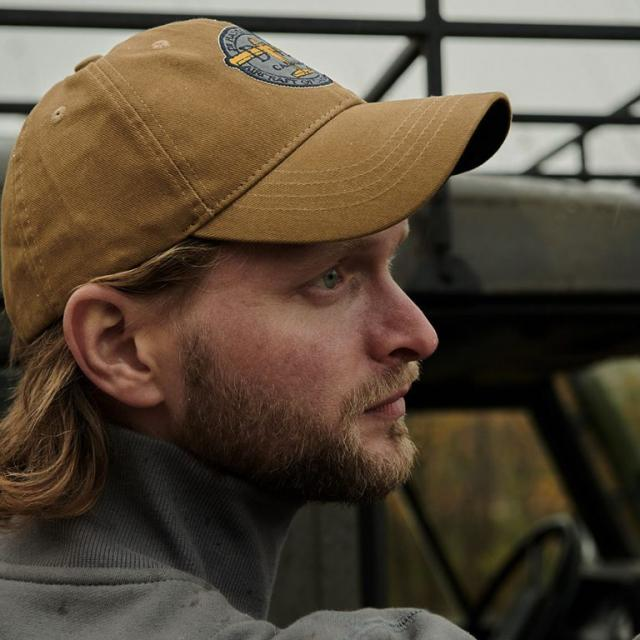Cap: (7, 16, 539, 337)
